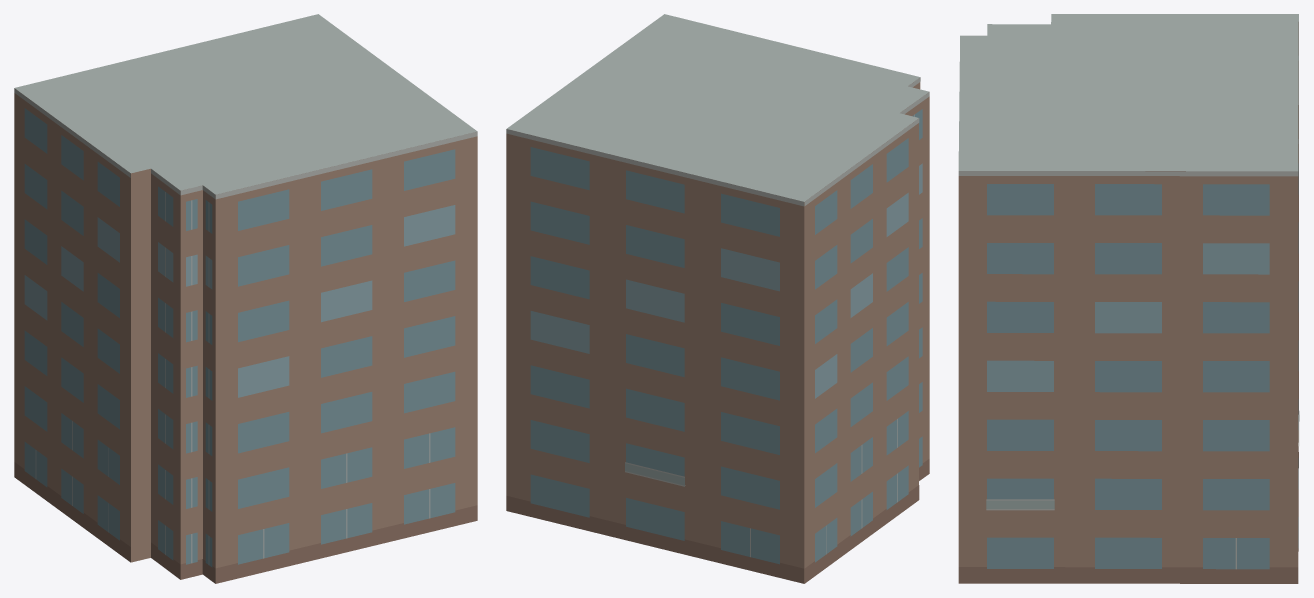
The model's file is survey-upis-32742349.glb.
The picture shows the model from 3 angles, left to right: view 1: azimuth 30°, elevation 25°; view 2: azimuth 150°, elevation 25°; view 3: azimuth 270°, elevation 25°; orthographic projection. The views are drawn at different scales.
Parts seen in each view (by area): view 1: survey-upis-32742349.tmp; view 2: survey-upis-32742349.tmp; view 3: survey-upis-32742349.tmp.
Part boxes in pixels (x1,y1,x2,y2): survey-upis-32742349.tmp: (14,14,477,583); survey-upis-32742349.tmp: (506,14,929,583); survey-upis-32742349.tmp: (958,14,1299,583).
Size of the model in its own units: 16.36 by 20 by 14.98.
